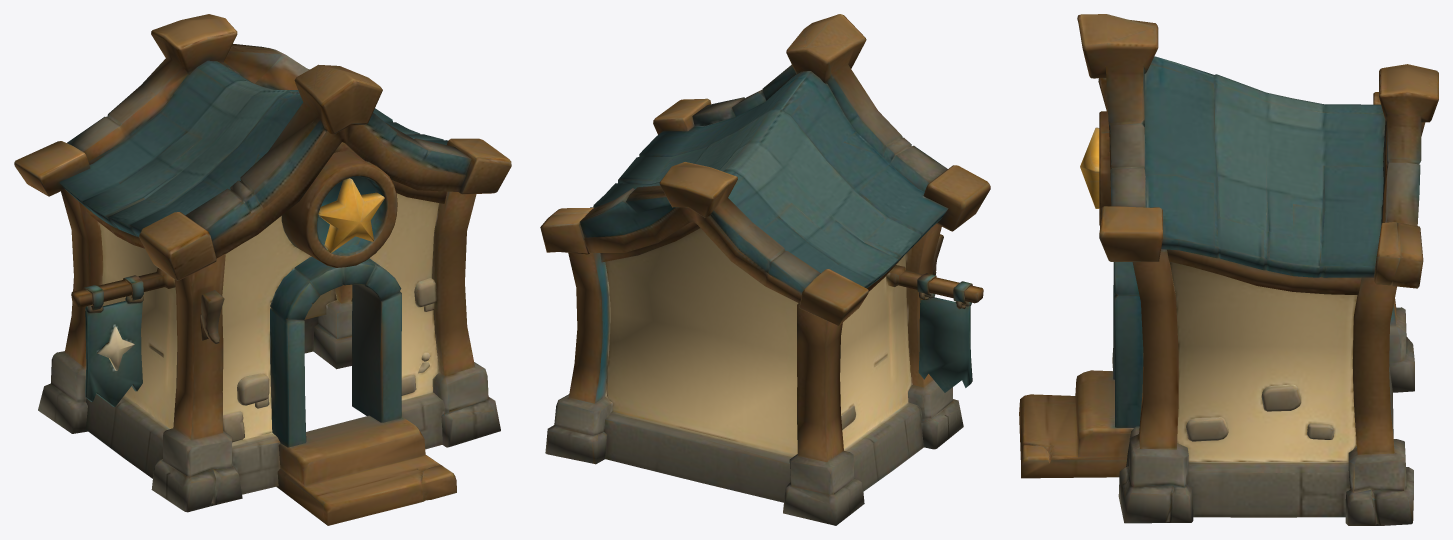
File: hut2.glb
3 views of the same model, side by side, from view 1: azimuth 30°, elevation 25°; view 2: azimuth 150°, elevation 25°; view 3: azimuth 270°, elevation 25° (orthographic). The views are drawn at different scales.
Visible parts, largest first — view 1: tripo_node_3c24bafd-71cb-4f0c-98c4-cbdfcea193cd; view 2: tripo_node_3c24bafd-71cb-4f0c-98c4-cbdfcea193cd; view 3: tripo_node_3c24bafd-71cb-4f0c-98c4-cbdfcea193cd.
Boxes of the visible parts, x1,y1,x2,y2 form: tripo_node_3c24bafd-71cb-4f0c-98c4-cbdfcea193cd: (14,14,511,525); tripo_node_3c24bafd-71cb-4f0c-98c4-cbdfcea193cd: (540,14,990,525); tripo_node_3c24bafd-71cb-4f0c-98c4-cbdfcea193cd: (1019,14,1438,525).
Bounding box in the file's own units: 0.9785 × 0.998 × 0.8887.
Materials: 1 (1 with a texture image).
